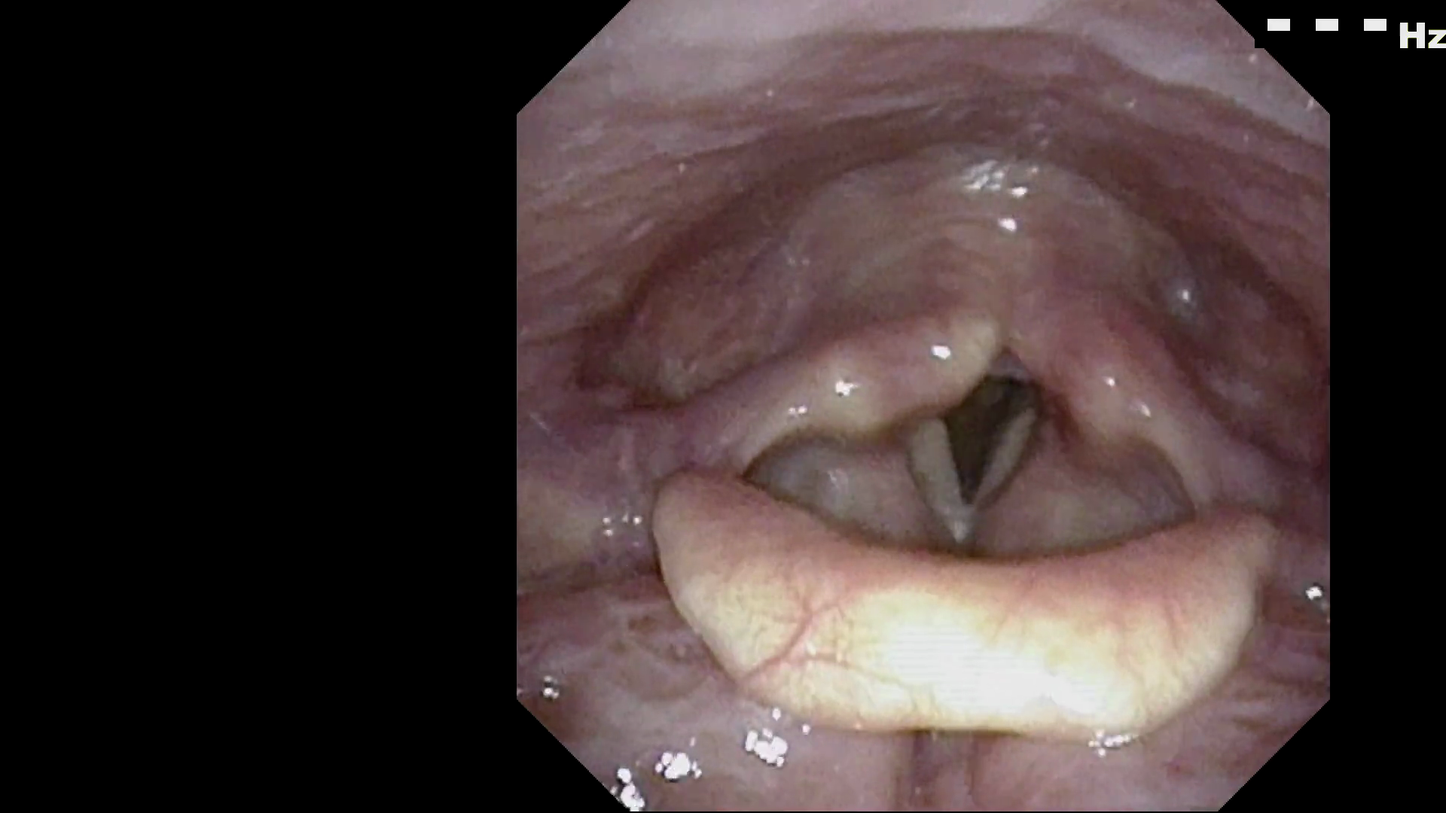epiglottis: (676, 461, 1271, 734)
trachea: (896, 356, 1061, 528)
